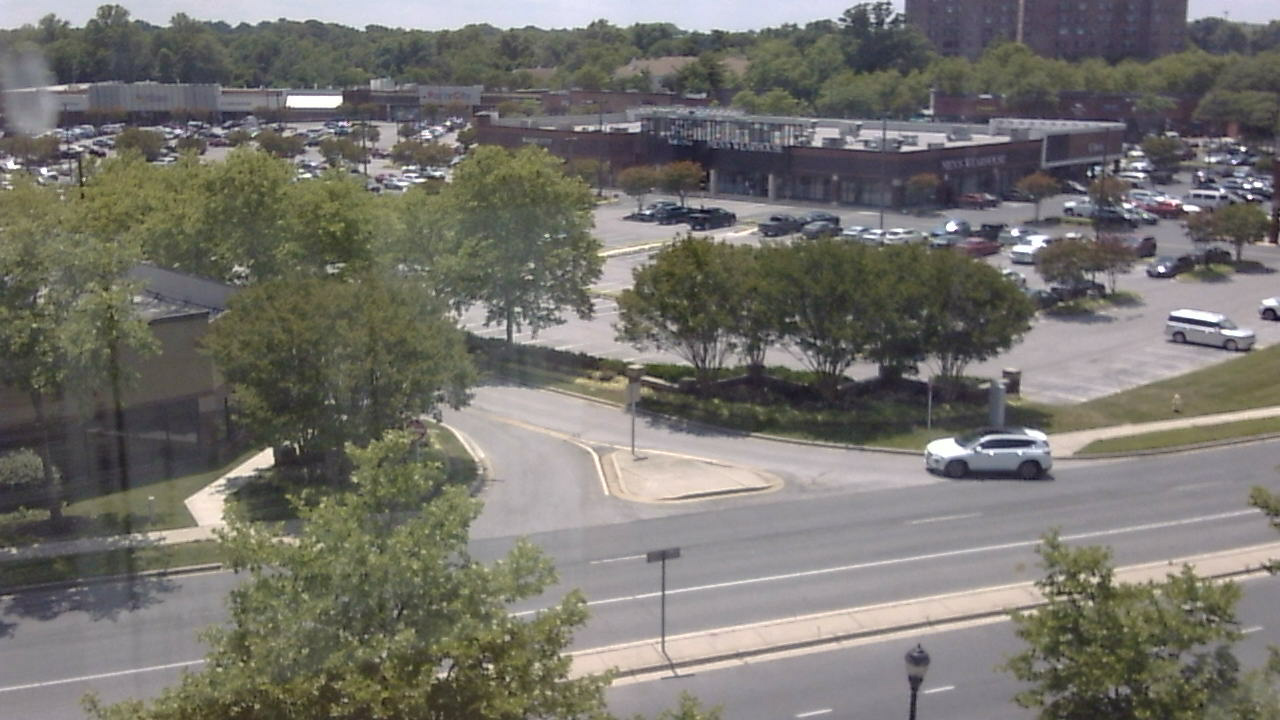Car: (910, 416, 1066, 502), (1163, 306, 1269, 374)
